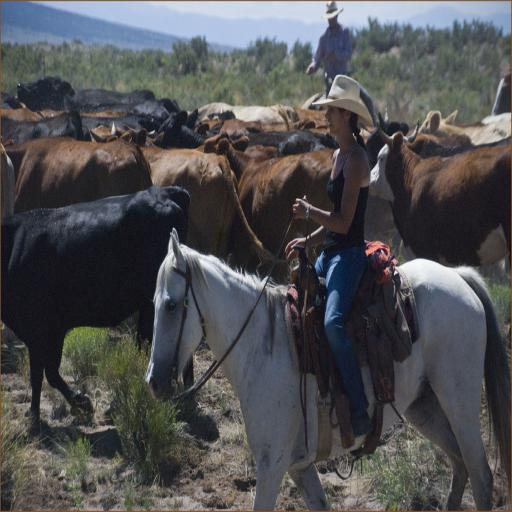horse: (142, 230, 512, 512)
